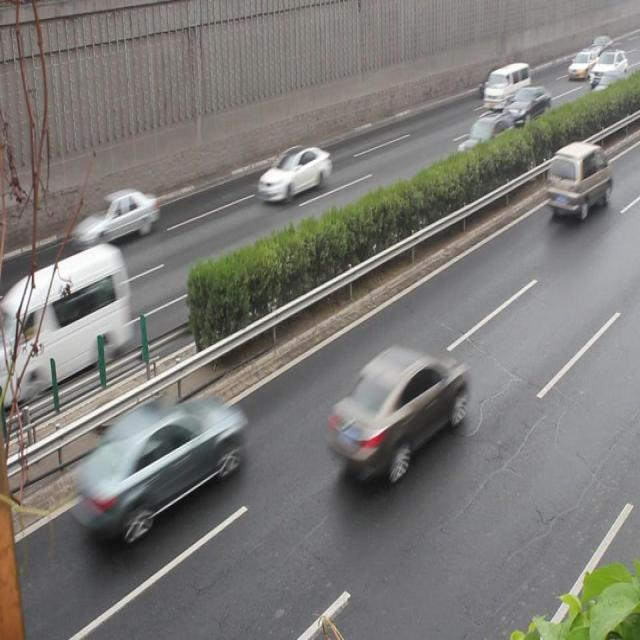car: (77, 392, 244, 544), (326, 345, 465, 479), (73, 187, 157, 247), (256, 141, 331, 200), (453, 110, 513, 165), (500, 83, 549, 128)
